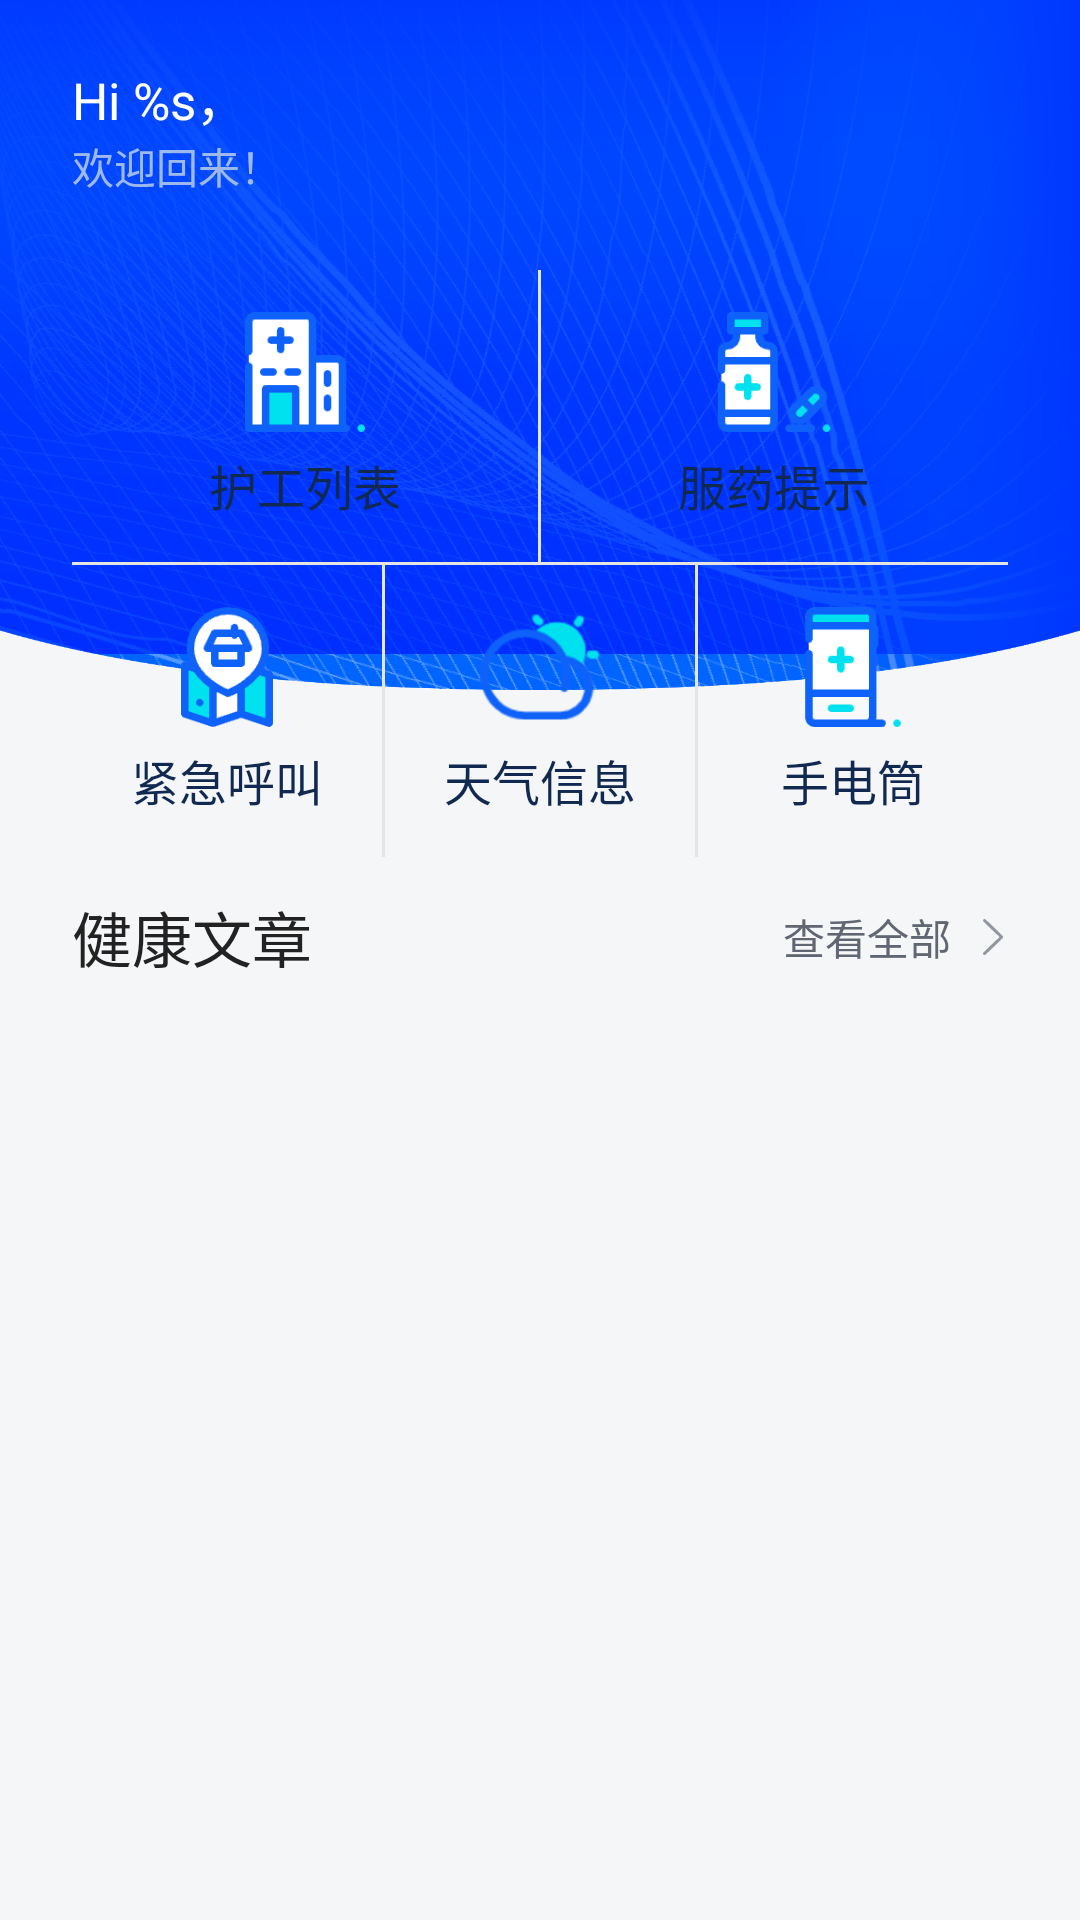

Locate icon controls on the screen. Image size 1080 × 1920, boxes as Rect(x1, y1, x2, y2).
home right arrow: Rect(983, 919, 1003, 955)
